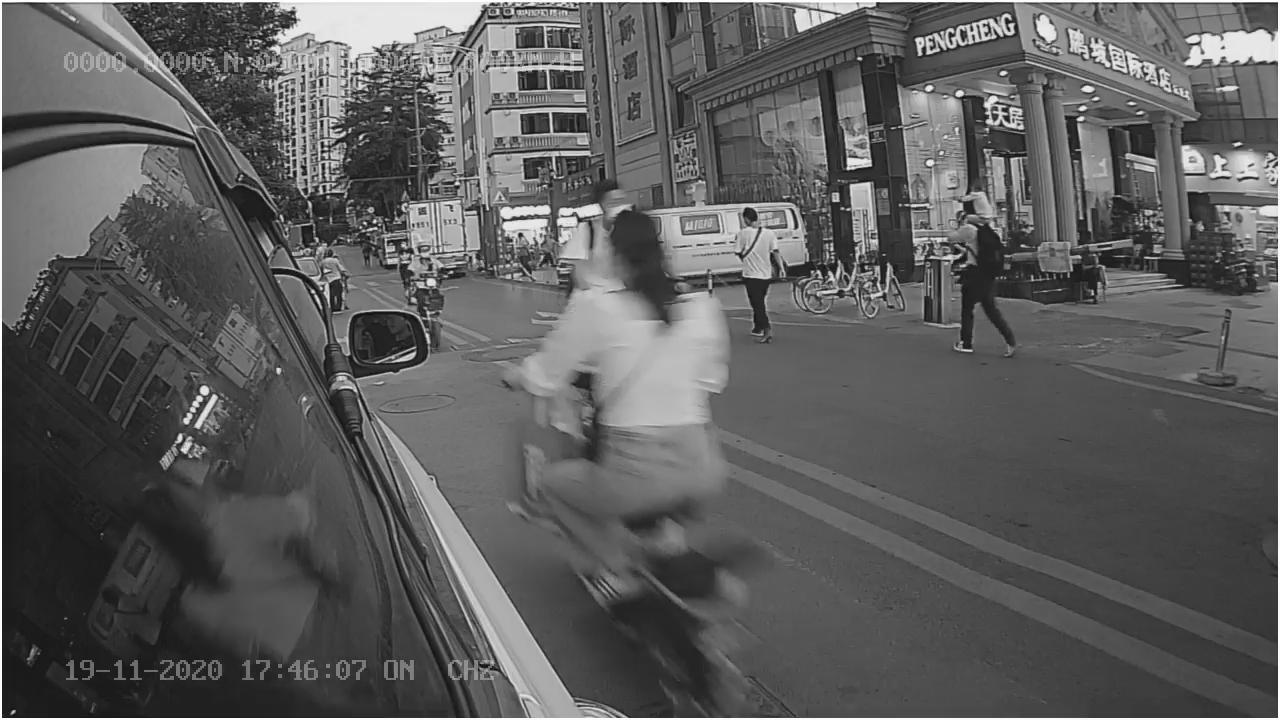person: (557, 221, 737, 523)
